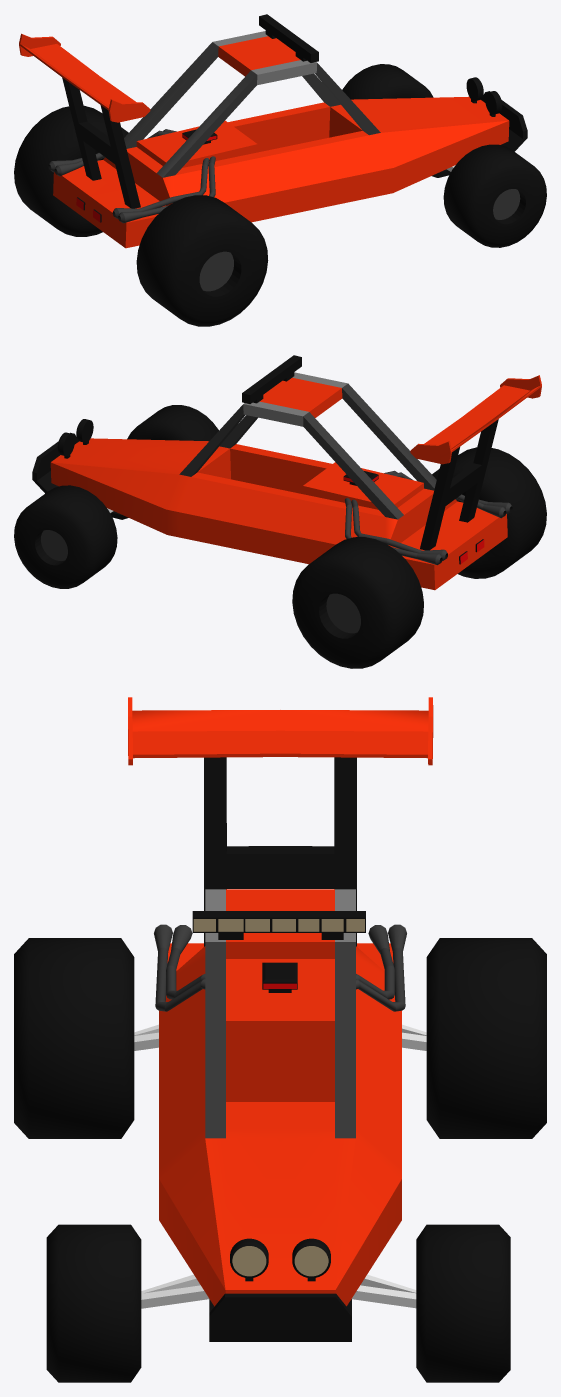
Rendered from Buggy_01.fbx.
3 renders of one model, top to bottom at view 1: azimuth 30°, elevation 25°; view 2: azimuth 150°, elevation 25°; view 3: azimuth 270°, elevation 25°, orthographic. The views are drawn at different scales.
Visible parts, largest first — view 1: Chassis, RodasTras, RodaFrenteDireita, RodaFrenteEsquerda, Escape, FarolTopo, ParachoquesFrontal, FaroisFrente; view 2: Chassis, RodasTras, RodaFrenteEsquerda, RodaFrenteDireita, Escape, FarolTopo, ParachoquesFrontal, FaroisFrente; view 3: Chassis, RodasTras, RodaFrenteDireita, RodaFrenteEsquerda, ParachoquesFrontal, Escape, FarolTopo, EixoFrontal, FaroisFrente, Motor, EixoTraseiro.
Part boxes in pixels (<box>): Chassis: <box>19,31,509,248</box>; RodasTras: <box>14,105,268,326</box>; RodaFrenteDireita: <box>443,144,546,247</box>; RodaFrenteEsquerda: <box>342,64,433,99</box>; Escape: <box>48,129,215,223</box>; FarolTopo: <box>259,14,318,62</box>; ParachoquesFrontal: <box>432,91,527,177</box>; FaroisFrente: <box>466,77,502,116</box>; Chassis: <box>50,372,541,590</box>; RodasTras: <box>292,447,546,668</box>; RodaFrenteEsquerda: <box>14,485,117,588</box>; RodaFrenteDireita: <box>127,405,218,441</box>; Escape: <box>344,470,512,565</box>; FarolTopo: <box>242,355,301,403</box>; ParachoquesFrontal: <box>32,432,128,519</box>; FaroisFrente: <box>57,419,93,458</box>; Chassis: <box>128,697,433,1306</box>; RodasTras: <box>14,938,546,1138</box>; RodaFrenteDireita: <box>46,1224,141,1382</box>; RodaFrenteEsquerda: <box>416,1224,510,1382</box>; ParachoquesFrontal: <box>209,1293,351,1341</box>; Escape: <box>154,924,406,1011</box>; FarolTopo: <box>192,911,365,939</box>; EixoFrontal: <box>141,1274,416,1308</box>; FaroisFrente: <box>230,1238,330,1281</box>; Motor: <box>262,962,297,992</box>; EixoTraseiro: <box>134,1024,426,1050</box>.
Bounding box in the file's own units: 22.72 × 10.91 × 14.14.
